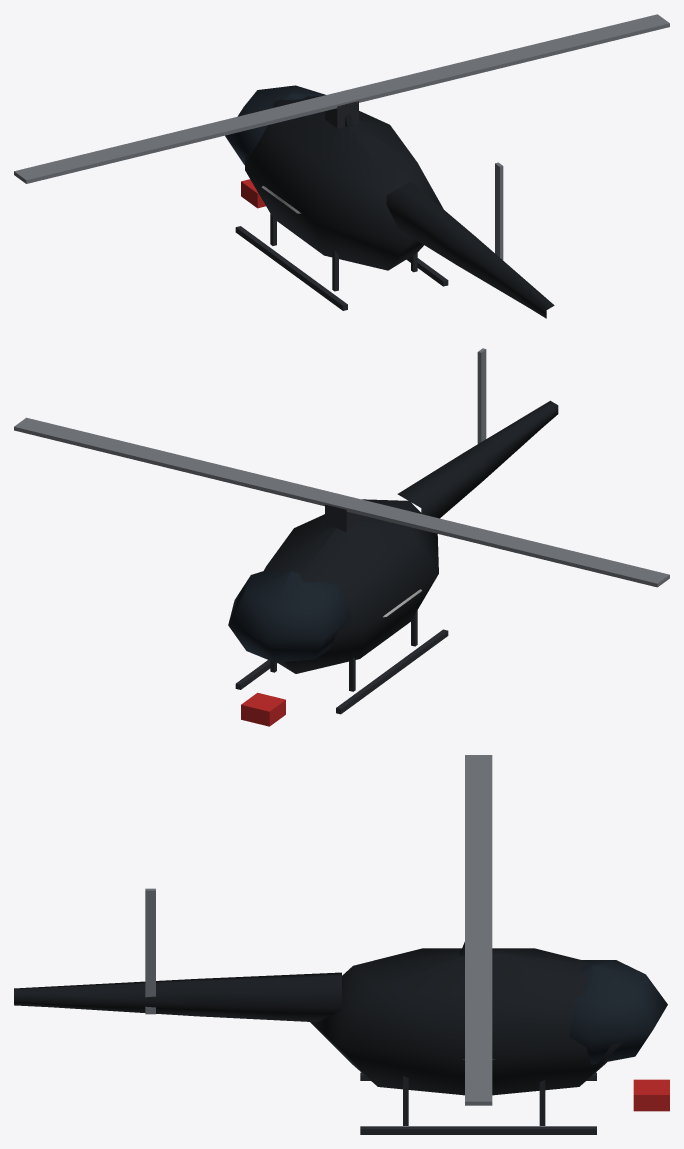
Rendered from mobile-low.glb.
The picture shows the model from 3 angles, top to bottom: view 1: azimuth 30°, elevation 25°; view 2: azimuth 150°, elevation 25°; view 3: azimuth 270°, elevation 25°; orthographic projection. The views are drawn at different scales.
Parts seen in each view (by area): view 1: police.heli, rotor_main, rotor_tail; view 2: police.heli, rotor_main, rotor_tail; view 3: police.heli, rotor_main, rotor_tail.
Part boxes in pixels (x1=…): police.heli: x1=225, y1=85, x2=554, y2=318; rotor_main: x1=14, y1=14, x2=669, y2=183; rotor_tail: x1=495, y1=162, x2=503, y2=260; police.heli: x1=228, y1=400, x2=558, y2=726; rotor_main: x1=14, y1=417, x2=669, y2=587; rotor_tail: x1=477, y1=348, x2=486, y2=443; police.heli: x1=14, y1=942, x2=669, y2=1134; rotor_main: x1=465, y1=755, x2=492, y2=1105; rotor_tail: x1=145, y1=888, x2=155, y2=1014.
Size of the model in its own units: 9 by 2.68 by 7.2.
